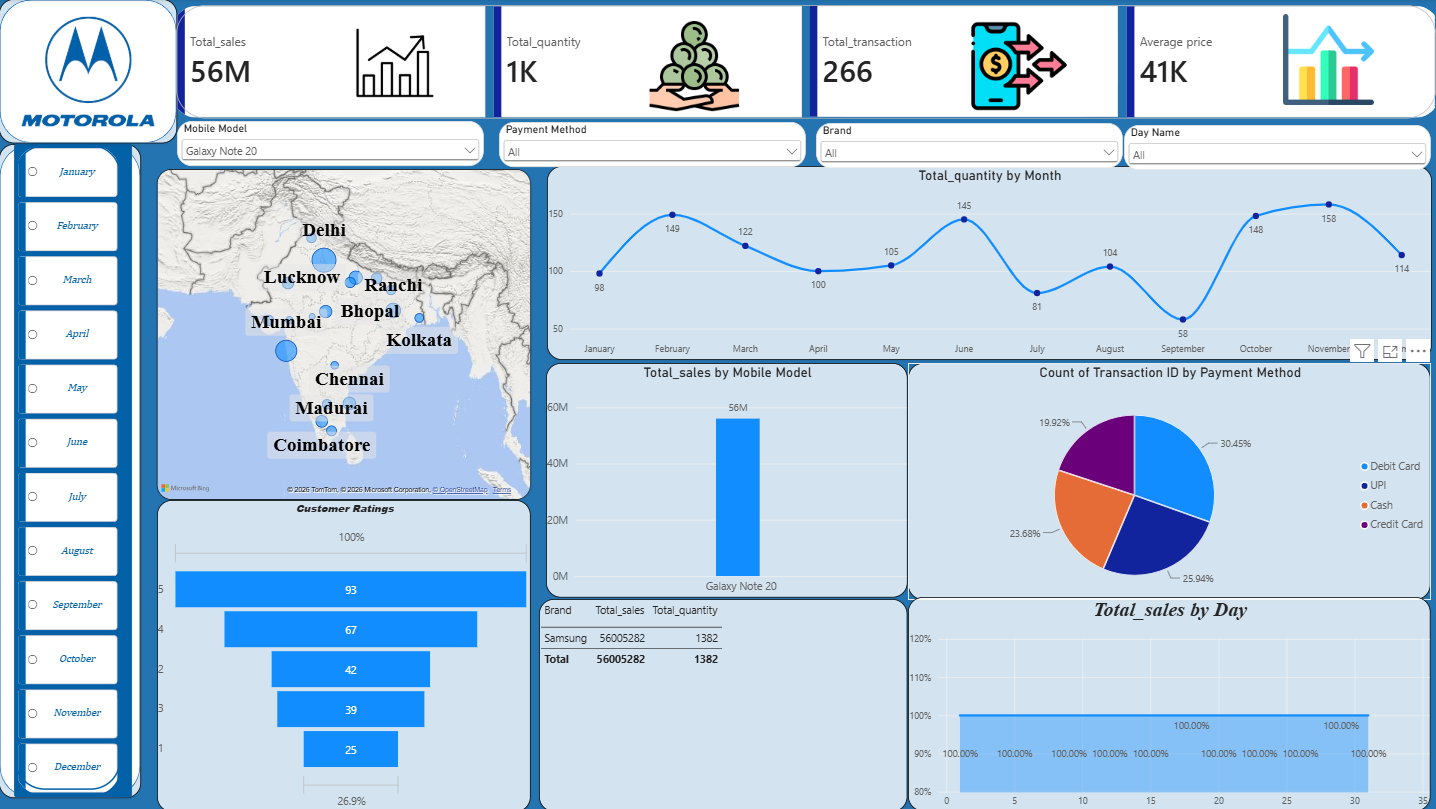

The dashboard page shown, as its layout file describes it:
{"tool":"powerbi","page":{"name":"Page 1","canvas":[1920,1080],"ordinal":0},"visuals":[{"type":"shape","box":[0,0,237.1,192.4],"z":0},{"type":"image","box":[23.3,7.8,188.6,177.4],"z":1000},{"type":"shape","box":[0,192.9,188.9,869.9],"z":2000},{"type":"advancedSlicerVisual","fields":{"Values":["Sales_data.DATE.Variation.Date Hierarchy.Month"]},"box":[20,192.9,156.9,868.5],"z":3000},{"type":"cardVisual","fields":{"Data":["Sales_data.Total_sales","Sales_data.Total_quantity","Sales_data.Total_transaction","Sales_data.Average price"]},"box":[227.4,0,1692.6,167.1],"z":4000},{"type":"image","box":[409.7,20,234.9,130],"z":5000},{"type":"image","box":[823.2,25.1,202.9,127.7],"z":6000},{"type":"image","box":[1254.2,25.1,205.2,127.7],"z":7000},{"type":"image","box":[1699.8,20,136.8,120.9],"z":8000},{"type":"map","fields":{"Category":["Sales_data.City"],"Size":["Sales_data.Total_sales"]},"box":[209.8,225.7,497.1,440.1],"z":9000},{"type":"lineChart","fields":{"Category":["Sales_data.DATE.Variation.Date Hierarchy.Month","Sales_data.DATE.Variation.Date Hierarchy.Day"],"Y":["Sales_data.Total_quantity"]},"box":[728.7,221.5,1176.6,257.7],"z":10000},{"type":"clusteredColumnChart","fields":{"Category":["Sales_data.Mobile Model"],"Y":["Sales_data.Total_sales"]},"box":[727.5,484.1,481.1,312.4],"z":11000},{"type":"pieChart","fields":{"Category":["Sales_data.Payment Method"],"Y":["CountNonNull(Sales_data.Transaction ID)"]},"box":[1209,484.1,695.5,314.7],"z":12000},{"type":"funnel","title":"Customer Ratings","fields":{"Category":["Sales_data.Customer Ratings"],"Y":["CountNonNull(Sales_data.Customer Ratings)"]},"box":[209.8,665.8,497.1,415],"z":13000},{"type":"hundredPercentStackedAreaChart","fields":{"Category":["Sales_data.DATE.Variation.Date Hierarchy.Day"],"Y":["Sales_data.Total_sales"]},"box":[1208.6,795.8,695.5,285],"z":14000},{"type":"tableEx","fields":{"Values":["Sales_data.Brand","Sales_data.Total_sales","Sales_data.Total_quantity"]},"box":[718.3,798.1,490.3,282.8],"z":14001},{"type":"slicer","fields":{"Values":["Sales_data.Mobile Model"]},"box":[236.7,162.3,408.3,59.9],"z":14003},{"type":"slicer","fields":{"Values":["Sales_data.Payment Method"]},"box":[664.6,163.2,408.3,59.9],"z":14004},{"type":"slicer","fields":{"Values":["Sales_data.Brand"]},"box":[1086.3,165.2,408.3,59.9],"z":14005},{"type":"slicer","fields":{"Values":["Sales_data.Day Name"]},"box":[1496.4,167.1,408.3,59.9],"z":14006}]}

Visuals, with their boxes in screenshot pixels (x1, y1, x2, y2), scaled from the page's 1920x1080 canvas onto the 1436x809 screenshot:
shape: box=[0, 0, 177, 144]
image: box=[17, 6, 158, 139]
shape: box=[0, 144, 141, 796]
advancedSlicerVisual - Sales_data.DATE.Variation.Date Hierarchy.Month: box=[15, 144, 132, 795]
cardVisual - Sales_data.Total_sales x Sales_data.Total_quantity: box=[170, 0, 1435, 125]
image: box=[306, 15, 482, 112]
image: box=[616, 19, 767, 114]
image: box=[938, 19, 1092, 114]
image: box=[1271, 15, 1374, 106]
map - Sales_data.City x Sales_data.Total_sales: box=[157, 169, 529, 499]
lineChart - Sales_data.DATE.Variation.Date Hierarchy.Month x Sales_data.DATE.Variation.Date Hierarchy.Day: box=[545, 166, 1425, 359]
clusteredColumnChart - Sales_data.Mobile Model x Sales_data.Total_sales: box=[544, 363, 904, 597]
pieChart - Sales_data.Payment Method x CountNonNull(Sales_data.Transaction ID): box=[904, 363, 1424, 598]
"Customer Ratings" funnel: box=[157, 499, 529, 808]
hundredPercentStackedAreaChart - Sales_data.DATE.Variation.Date Hierarchy.Day x Sales_data.Total_sales: box=[904, 596, 1424, 808]
tableEx - Sales_data.Brand x Sales_data.Total_sales: box=[537, 598, 904, 808]
slicer - Sales_data.Mobile Model: box=[177, 122, 482, 166]
slicer - Sales_data.Payment Method: box=[497, 122, 802, 167]
slicer - Sales_data.Brand: box=[812, 124, 1118, 169]
slicer - Sales_data.Day Name: box=[1119, 125, 1425, 170]
